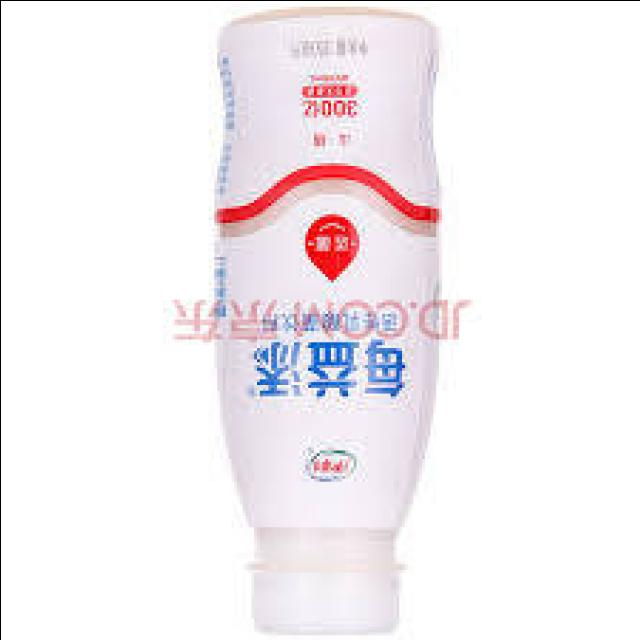-Recyclables - plastic bottle-: (209, 9, 436, 638)
